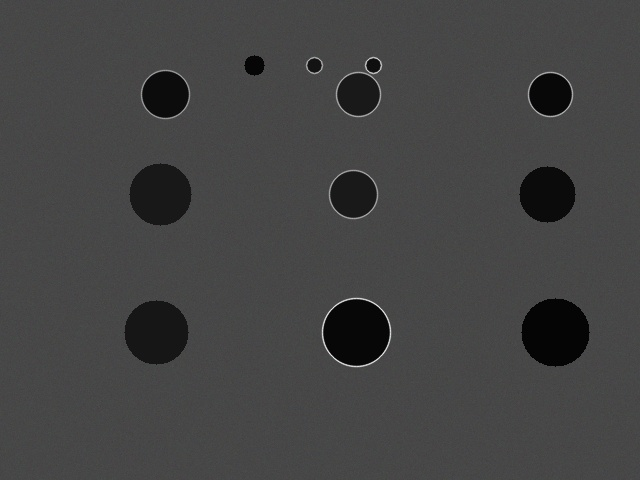hole: (322, 298, 390, 366), (521, 298, 589, 366), (124, 300, 188, 364), (129, 163, 191, 225), (519, 166, 575, 222), (141, 70, 189, 118), (329, 170, 377, 218), (336, 72, 380, 116), (528, 72, 572, 116), (244, 55, 264, 75), (306, 57, 322, 73), (365, 57, 381, 73)
